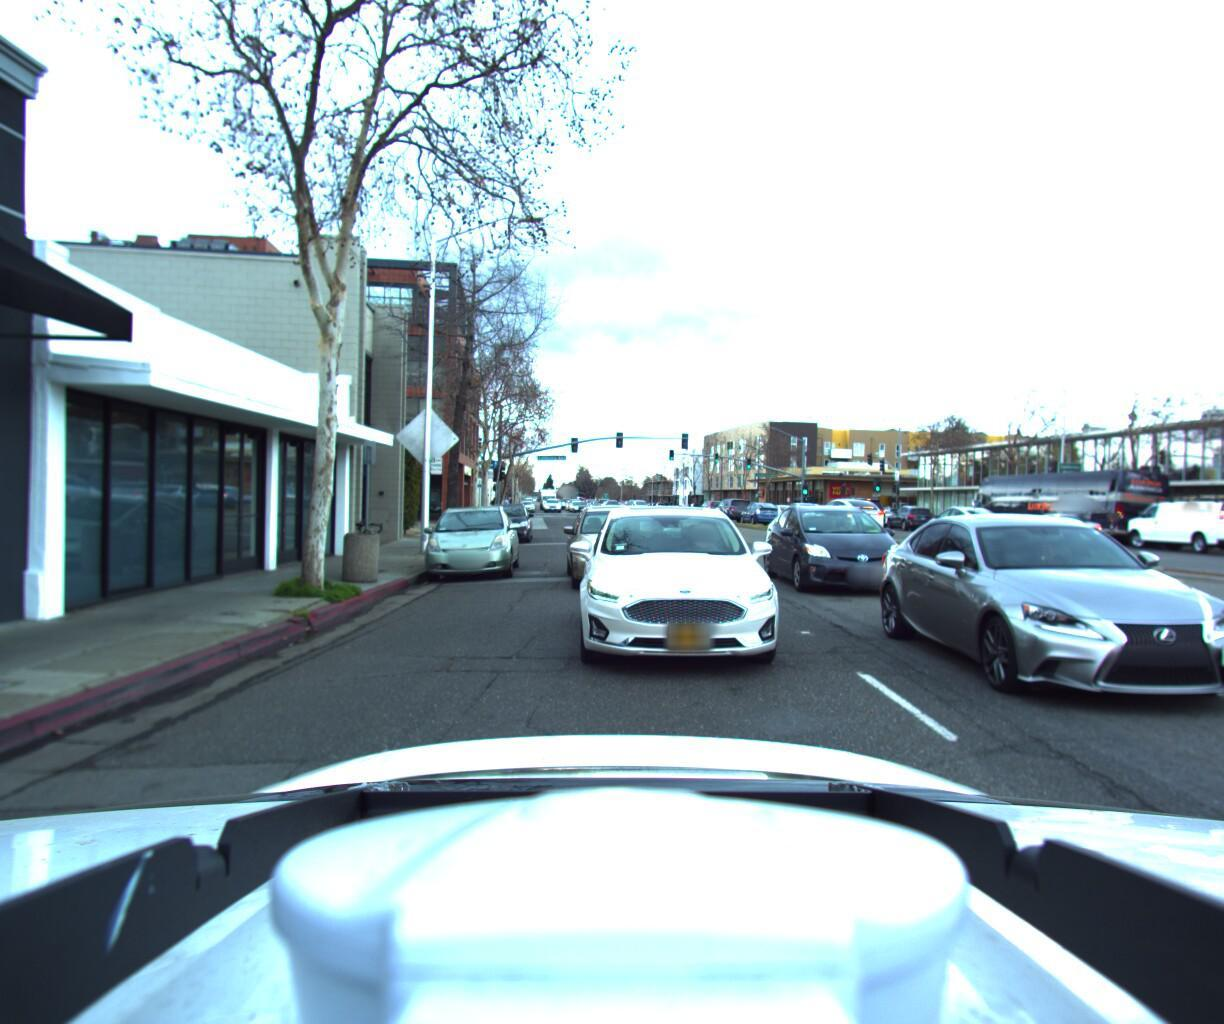bus: (966, 466, 1179, 548), (1114, 486, 1224, 558)
car: (848, 506, 1224, 731), (561, 495, 807, 679), (753, 497, 928, 596), (557, 499, 681, 596), (409, 500, 529, 585), (1007, 508, 1113, 549), (917, 499, 1009, 543), (810, 492, 890, 534), (476, 495, 535, 544), (776, 498, 835, 527), (734, 501, 785, 530), (885, 505, 937, 532), (712, 497, 752, 523), (1210, 516, 1224, 578), (694, 497, 729, 519)
